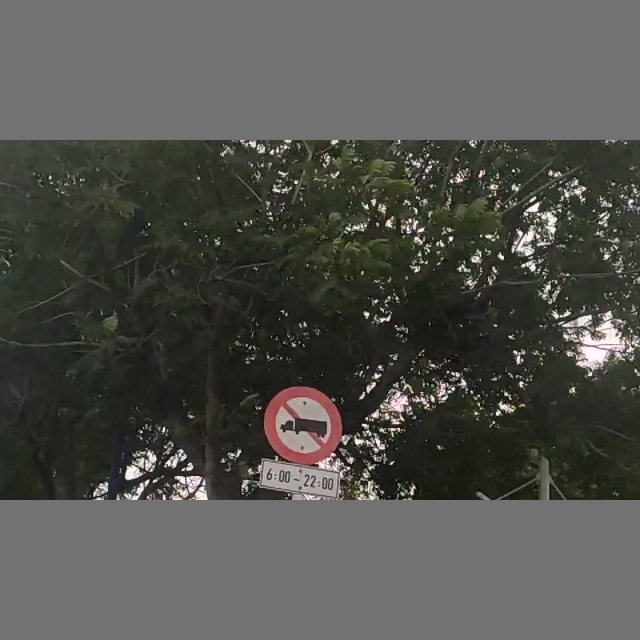B.8a: (255, 387, 342, 491)
